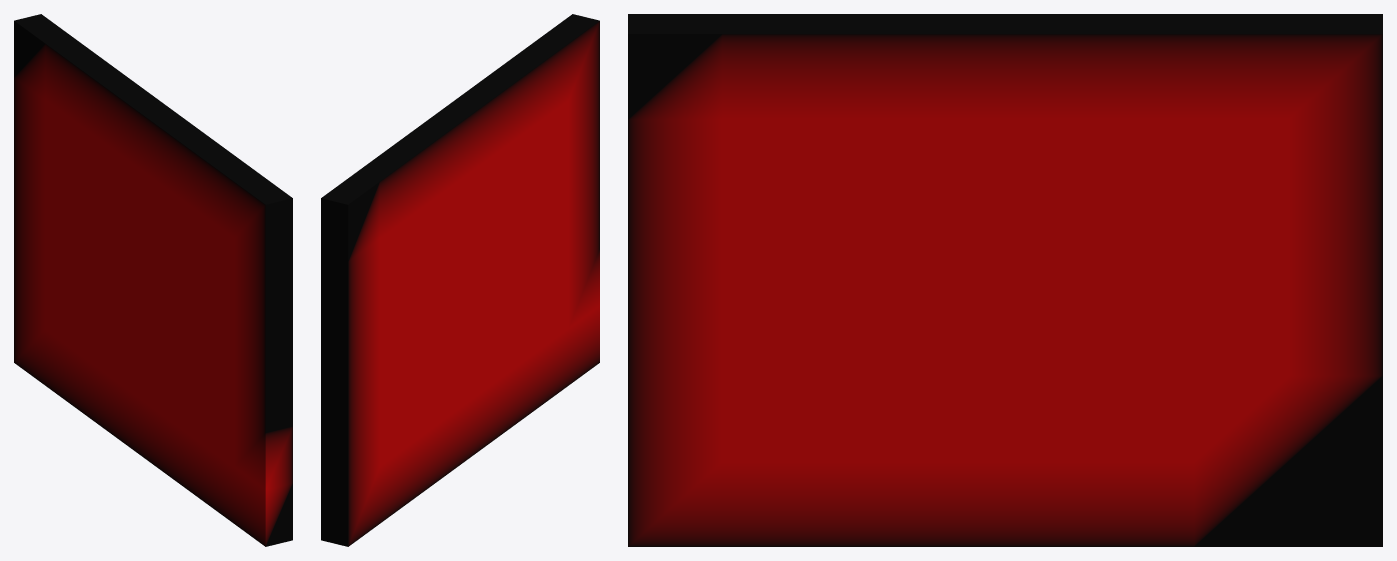
File: SM_Wall_800x600_UpM_BrickStoneWall_Disp.glb
3 views of the same model, side by side, from view 1: azimuth 30°, elevation 25°; view 2: azimuth 150°, elevation 25°; view 3: azimuth 270°, elevation 25° (orthographic). The views are drawn at different scales.
Visible parts, largest first — view 1: SM_Wall_800x600_Up_LOD0; view 2: SM_Wall_800x600_Up_LOD0; view 3: SM_Wall_800x600_Up_LOD0.
Part boxes in pixels (x1,y1,x2,y2): SM_Wall_800x600_Up_LOD0: [14, 14, 292, 546]; SM_Wall_800x600_Up_LOD0: [321, 14, 599, 546]; SM_Wall_800x600_Up_LOD0: [628, 14, 1382, 546].
Bounding box in the file's own units: 0.5 × 6 × 8.
